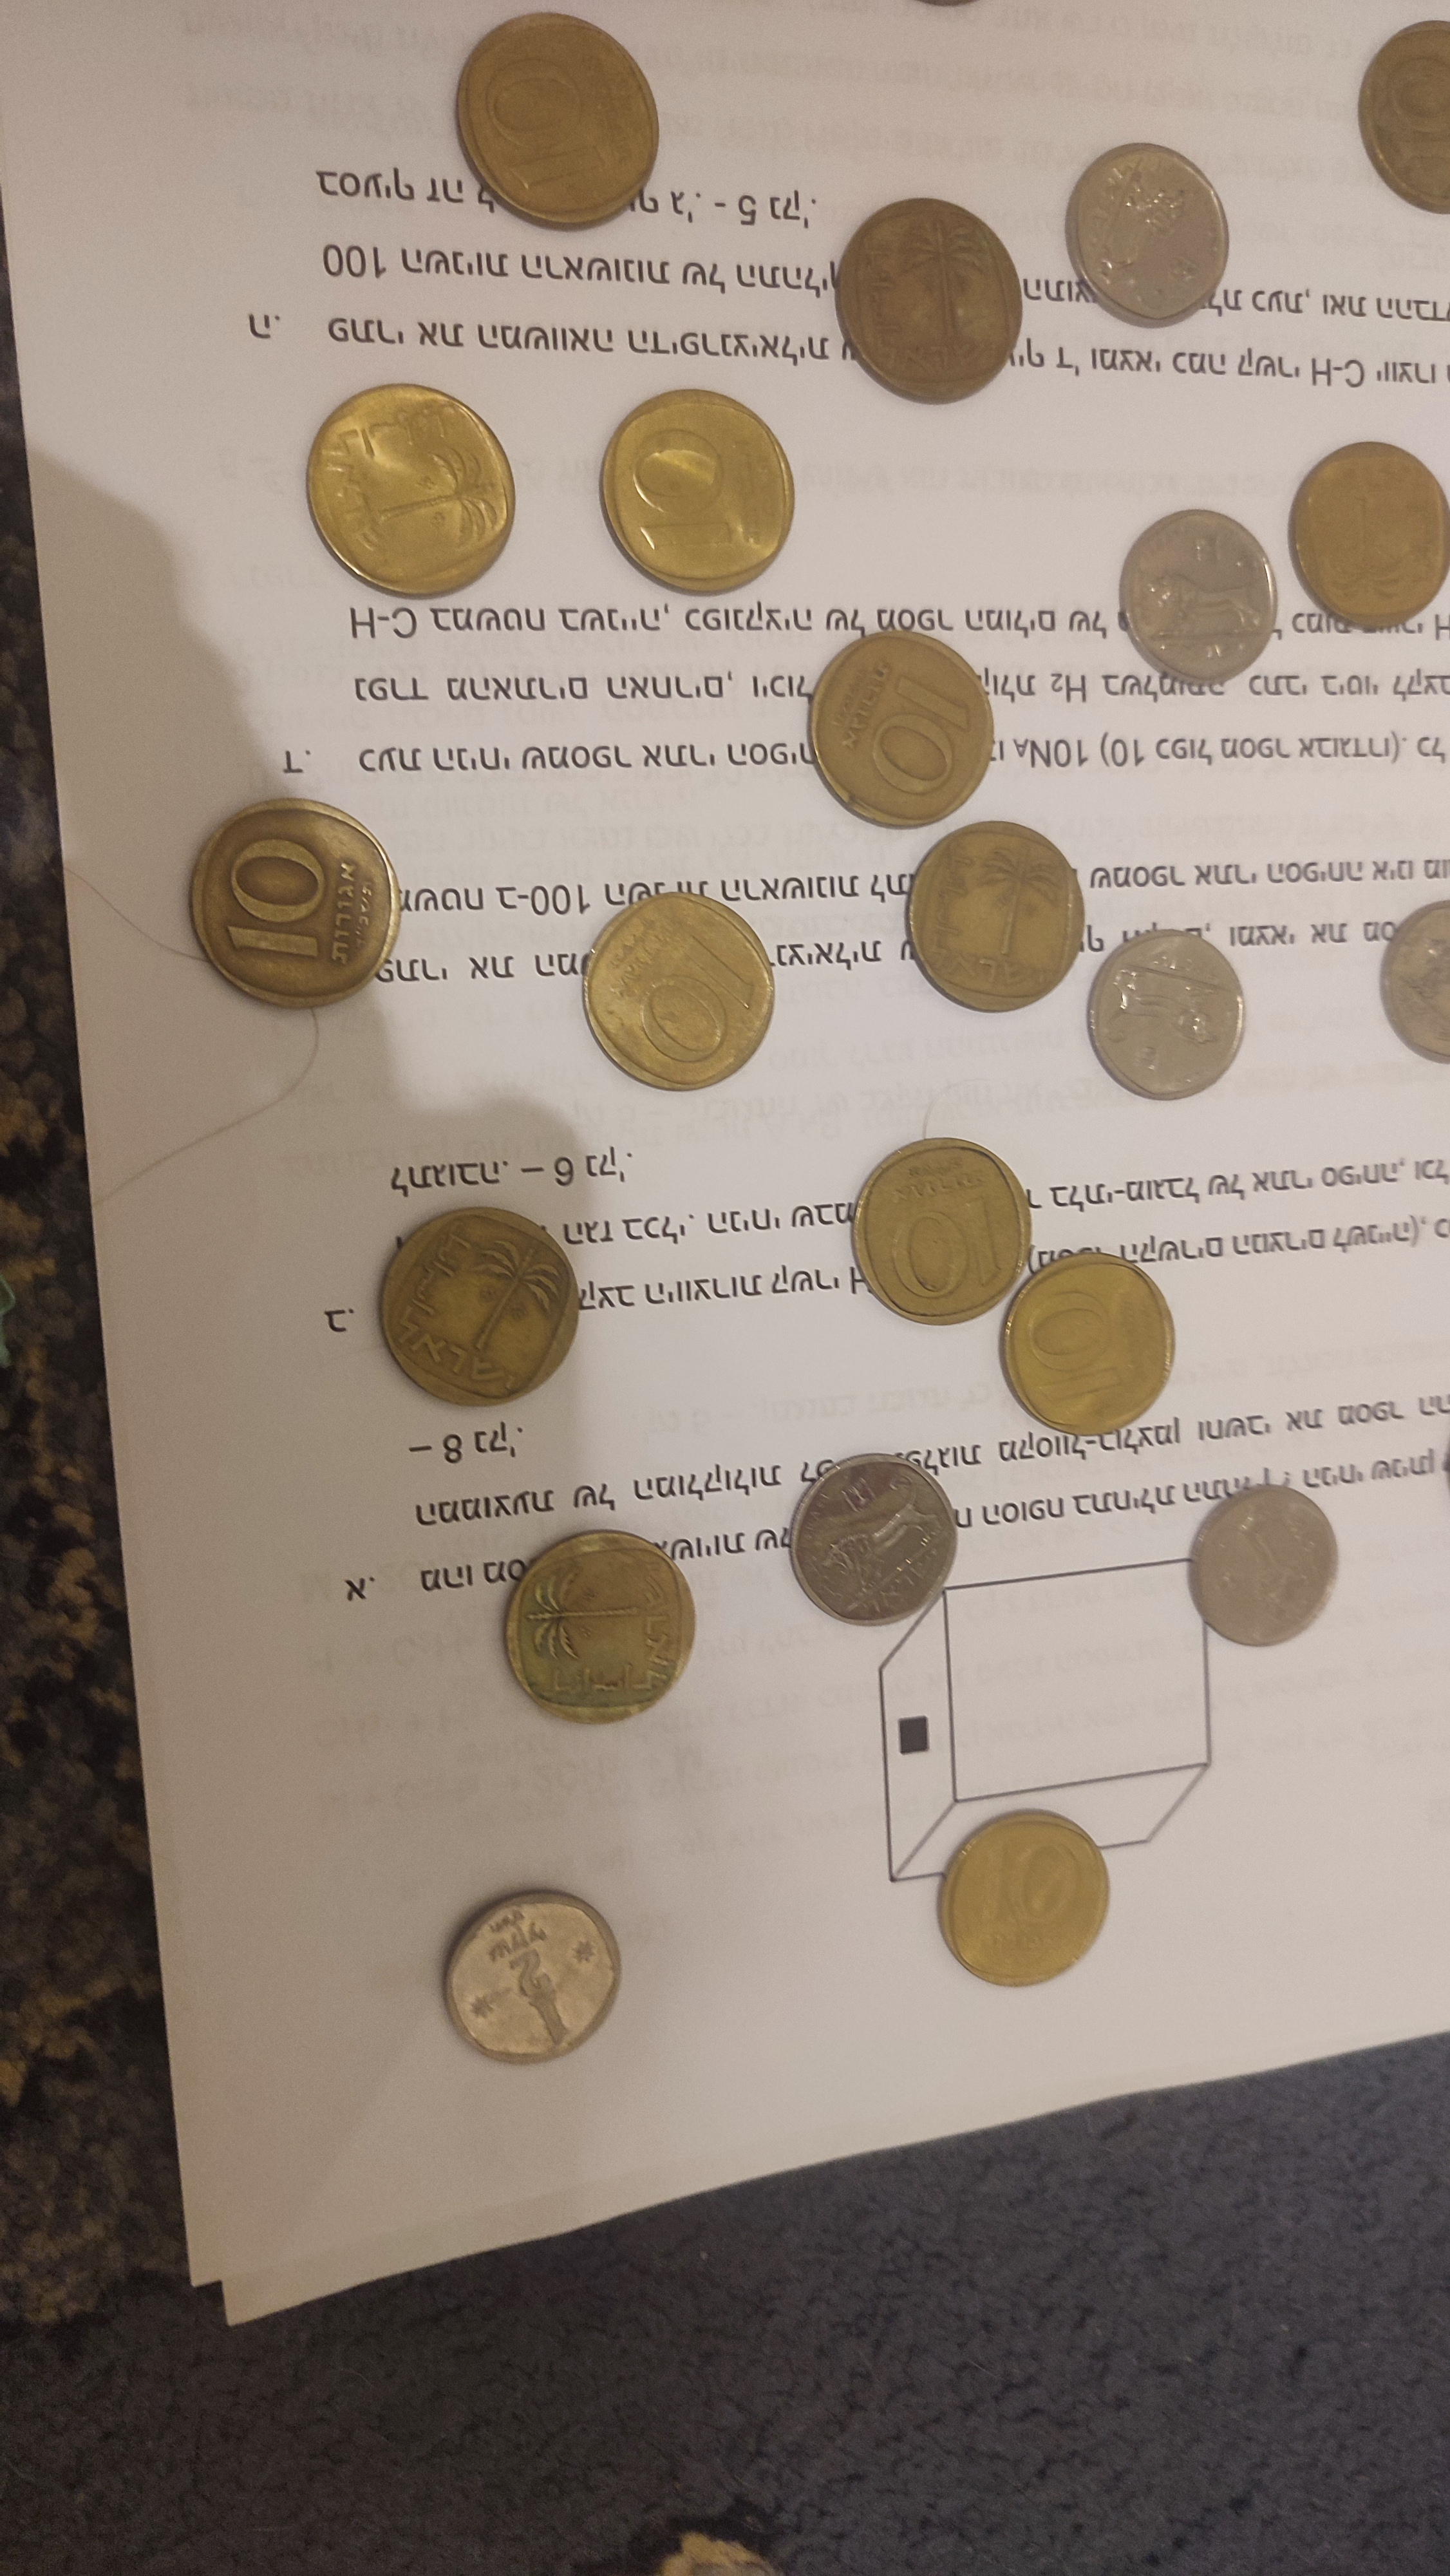1/2 old sheqel: (440, 1886, 626, 2072), (1065, 140, 1232, 331), (787, 1451, 960, 1629), (1116, 506, 1282, 686), (1086, 925, 1248, 1104), (1185, 1481, 1340, 1649)
10 old agora brown: (297, 377, 522, 610), (186, 793, 405, 1014), (453, 7, 661, 237), (592, 382, 803, 603), (377, 1205, 584, 1412), (578, 890, 780, 1099), (833, 196, 1033, 407), (500, 1527, 698, 1732), (805, 628, 999, 833), (900, 819, 1091, 1017), (845, 1136, 1034, 1327), (996, 1247, 1178, 1440), (1286, 433, 1450, 633), (935, 1806, 1110, 1990)
